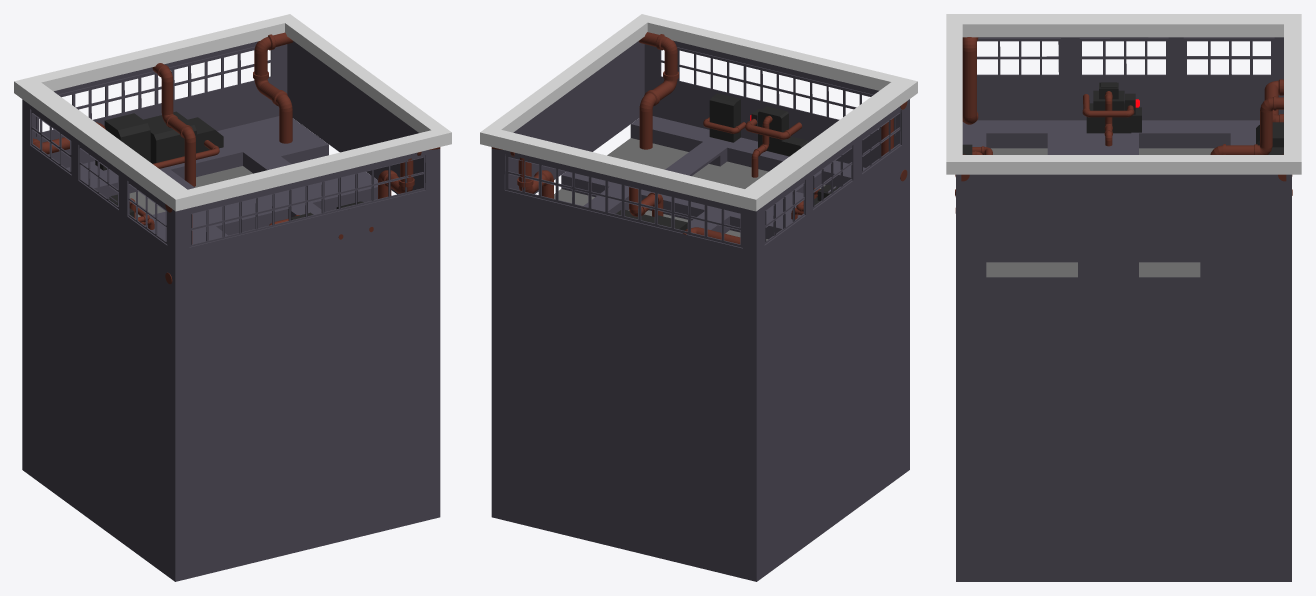
File: TuberiasYCharcosaGLB.glb
The picture shows the model from 3 angles, left to right: view 1: azimuth 30°, elevation 25°; view 2: azimuth 150°, elevation 25°; view 3: azimuth 270°, elevation 25°; orthographic projection. The views are drawn at different scales.
Visible parts, largest first — view 1: Base, techo, Cilindro.001, Cylinder.008, Cilindro; view 2: Base, techo, Cilindro, Cilindro.001, Cylinder.008; view 3: Base, techo, Cylinder.007, Cylinder.008, Cylinder.004, Cylinder.001.
Part boxes in pixels (box(x1,y1,x2,y2)): Base: box(22, 41, 440, 581); techo: box(14, 14, 451, 211); Cilindro.001: box(253, 32, 293, 143); Cylinder.008: box(152, 63, 195, 186); Cilindro: box(378, 147, 440, 198); Base: box(491, 40, 909, 581); techo: box(480, 14, 917, 211); Cilindro: box(639, 32, 678, 149); Cilindro.001: box(491, 147, 553, 198); Cylinder.008: box(629, 187, 663, 216); Base: box(956, 37, 1291, 581); techo: box(946, 14, 1301, 174); Cylinder.007: box(962, 37, 978, 124); Cylinder.008: box(1210, 96, 1283, 154); Cylinder.004: box(1082, 94, 1134, 117); Cylinder.001: box(1264, 79, 1283, 122).
Size of the model in its own units: 15.62 by 20.89 by 15.85.
